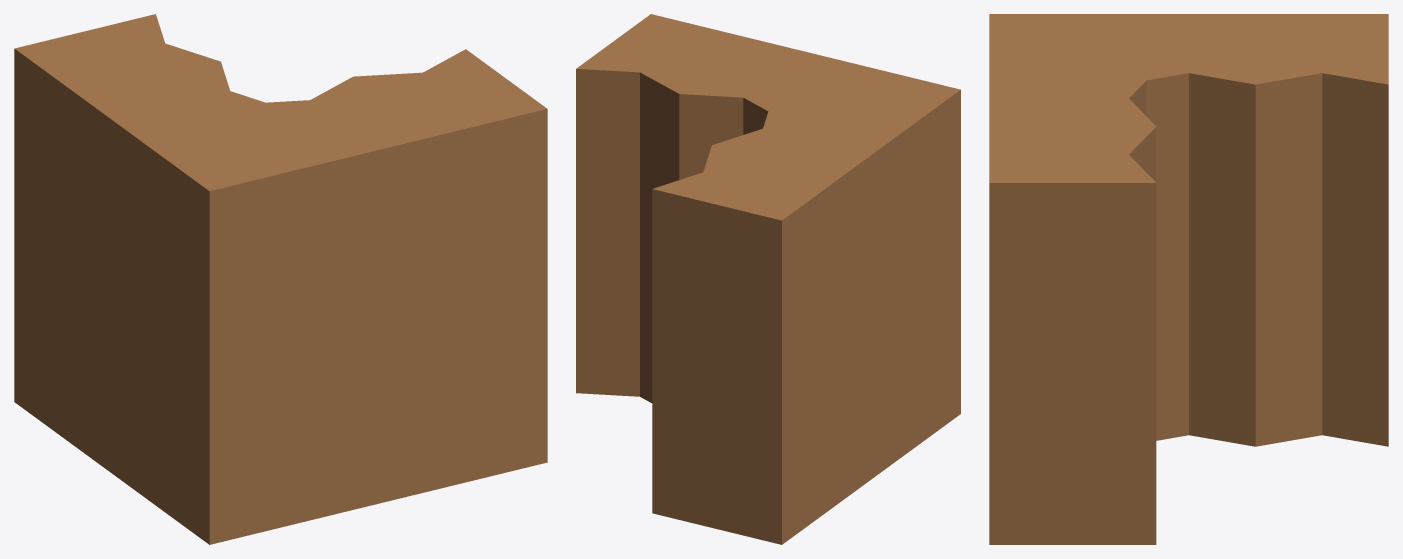
File: cliff_cornerInnerLarge_rock.glb
The picture shows the model from 3 angles, left to right: view 1: azimuth 30°, elevation 25°; view 2: azimuth 150°, elevation 25°; view 3: azimuth 270°, elevation 25°; orthographic projection. The views are drawn at different scales.
Visible parts, largest first — view 1: cliff_cornerInnerLarge_rock; view 2: cliff_cornerInnerLarge_rock; view 3: cliff_cornerInnerLarge_rock.
Boxes of the visible parts, left/top/right/bottom form: cliff_cornerInnerLarge_rock: left=14, top=14, right=547, bottom=544; cliff_cornerInnerLarge_rock: left=576, top=14, right=960, bottom=544; cliff_cornerInnerLarge_rock: left=989, top=14, right=1388, bottom=544.
Size of the model in its own units: 1 by 1 by 1.
